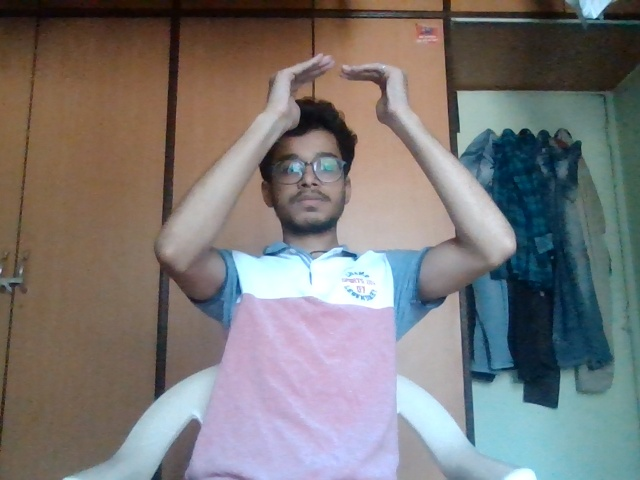afternoon: (244, 49, 447, 152)
